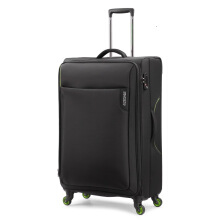luggage: (57, 7, 168, 216)
